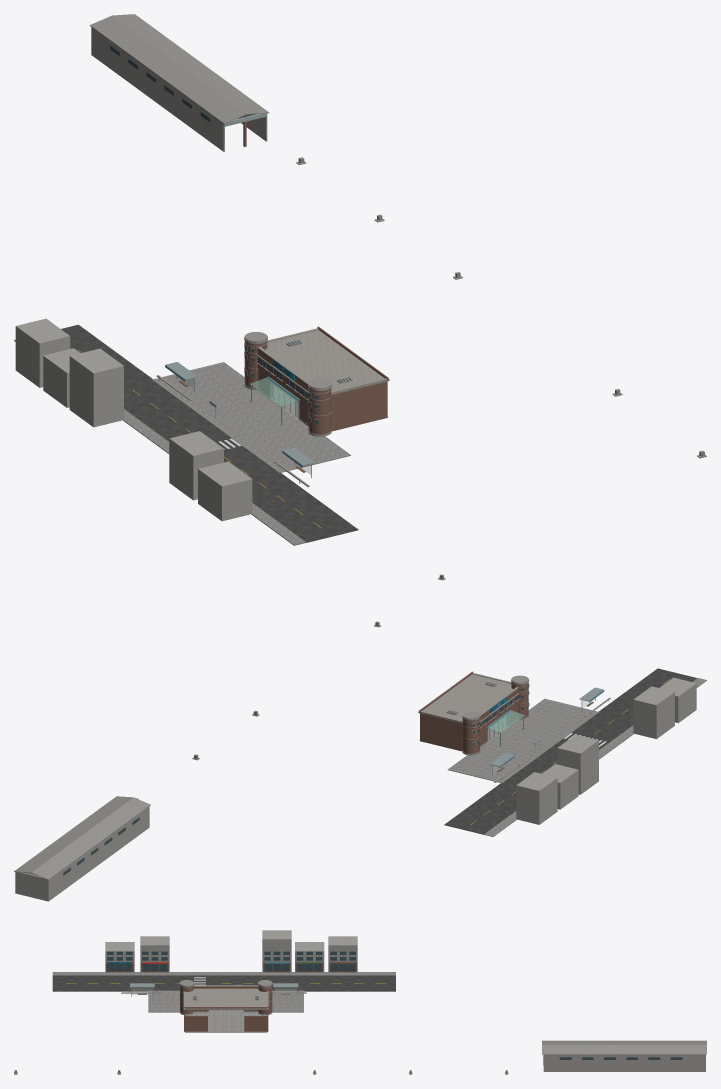
The model's file is Ansan.fbx.
3 renders of one model, top to bottom at view 1: azimuth 30°, elevation 25°; view 2: azimuth 150°, elevation 25°; view 3: azimuth 270°, elevation 25°, orthographic. The views are drawn at different scales.
Visible parts, largest first — view 1: Hall_Floor; view 2: Hall_Floor; view 3: Hall_Floor.
Part boxes in pixels (box(x1,y1,x2,y2)): Hall_Floor: box(14, 14, 706, 545); Hall_Floor: box(14, 574, 706, 901); Hall_Floor: box(14, 930, 706, 1074).
Size of the model in its own units: 7869 by 996 by 18775.
Materials: 24 (8 with a texture image).
